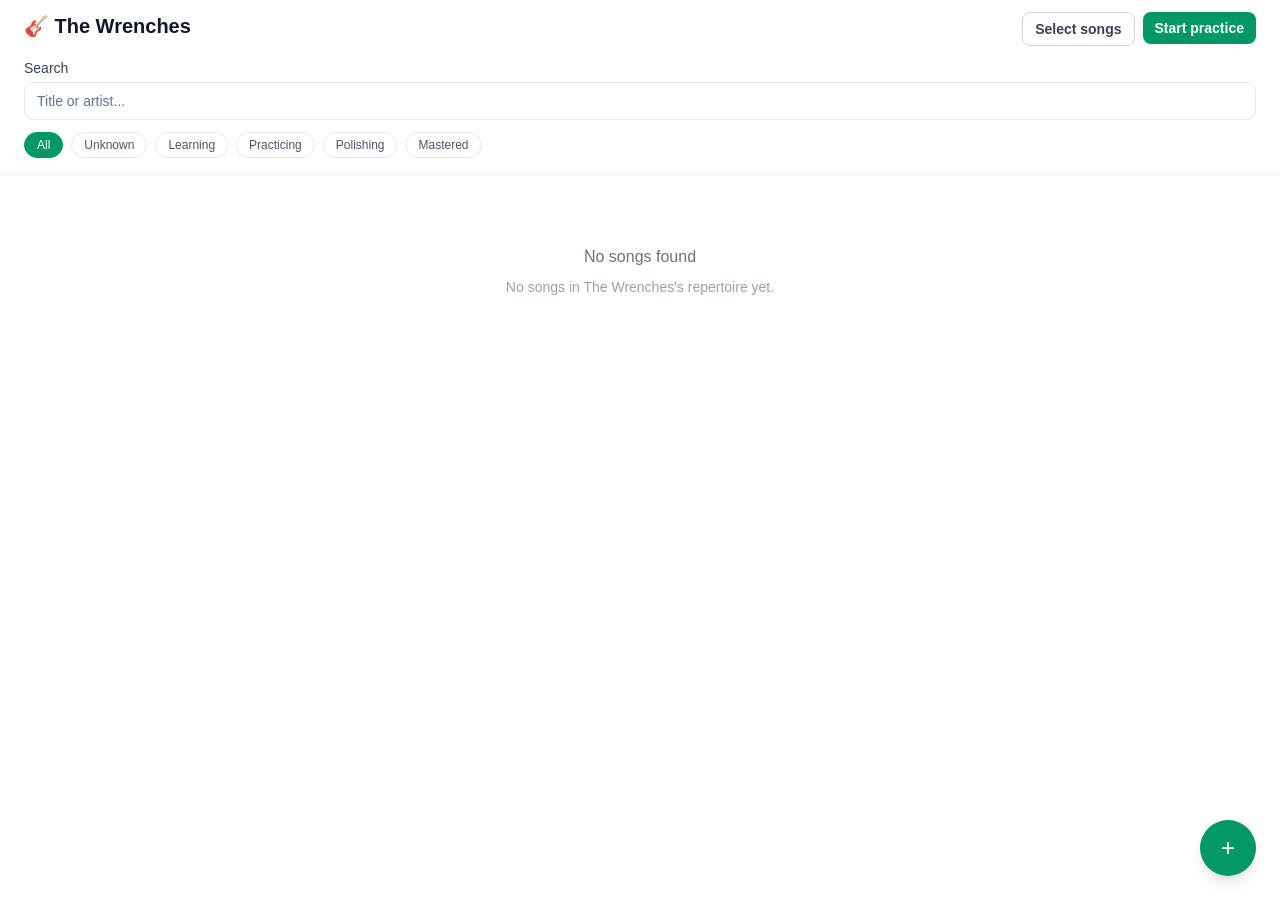
dashboard in band context › hides the menu button while the song picker is active
Expected: the number of buttons "Start practice" is 1, [1142,12,1256,44]
Step 1. Click the button "Select songs" → (1078, 29), box [1022,12,1134,46]
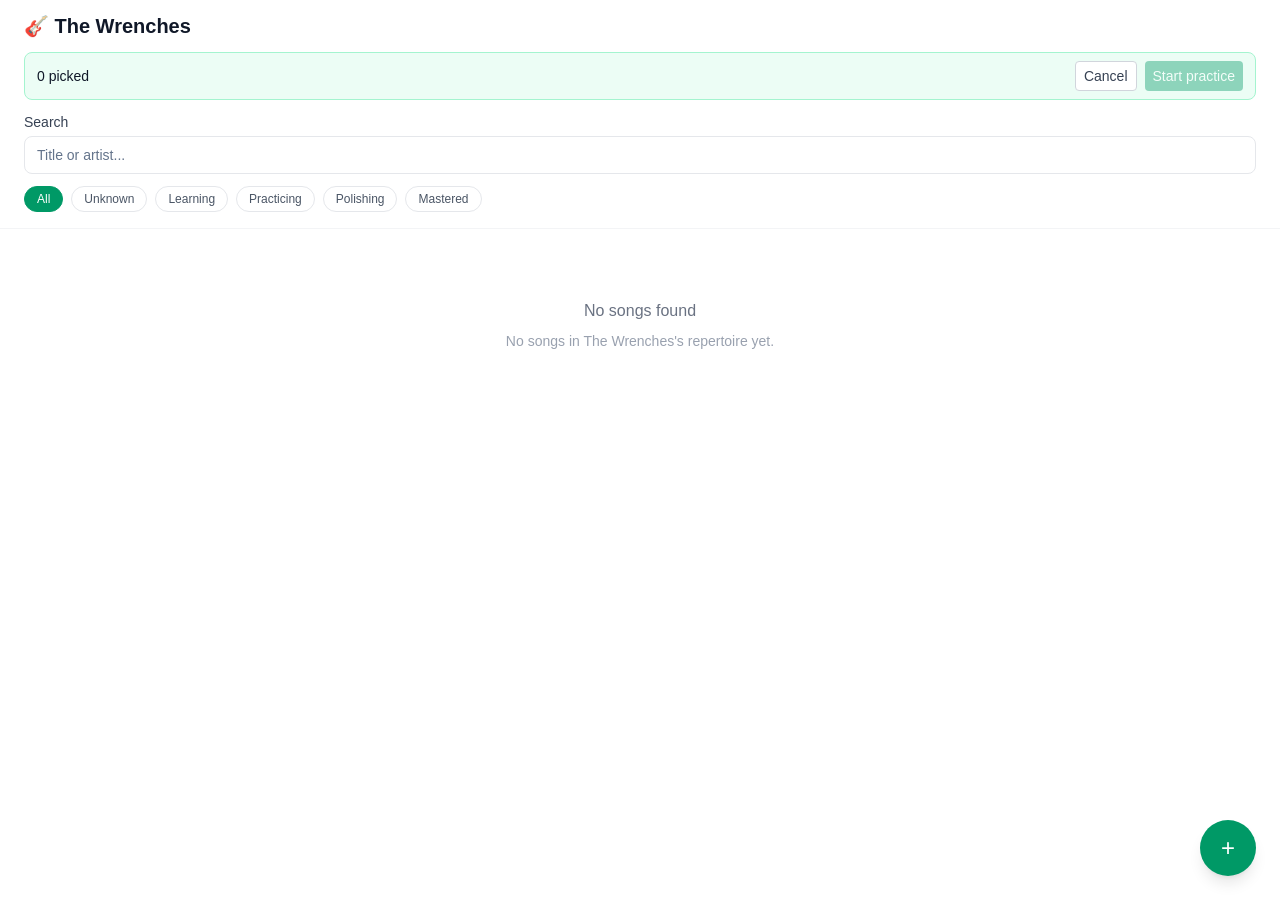
Now the number of buttons "Start practice" is 1, box [1144,61,1243,91]
